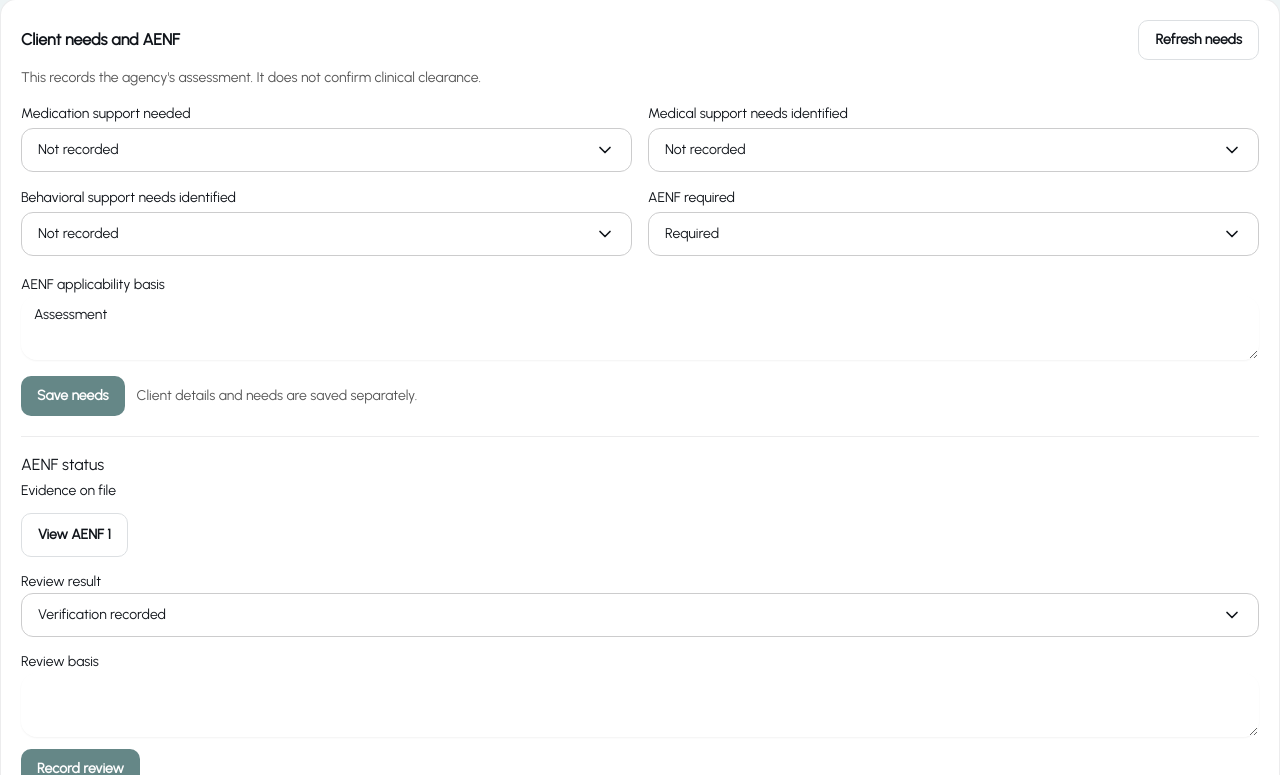
client needs › does not clear an evidence conflict when the real document refresh fails
Later steps or results of the test are not shown.
Type "Retain this review draft" into the text box labelled "Review basis" at (640, 705), box 21,673 -> 1259,737
(page scrolled)
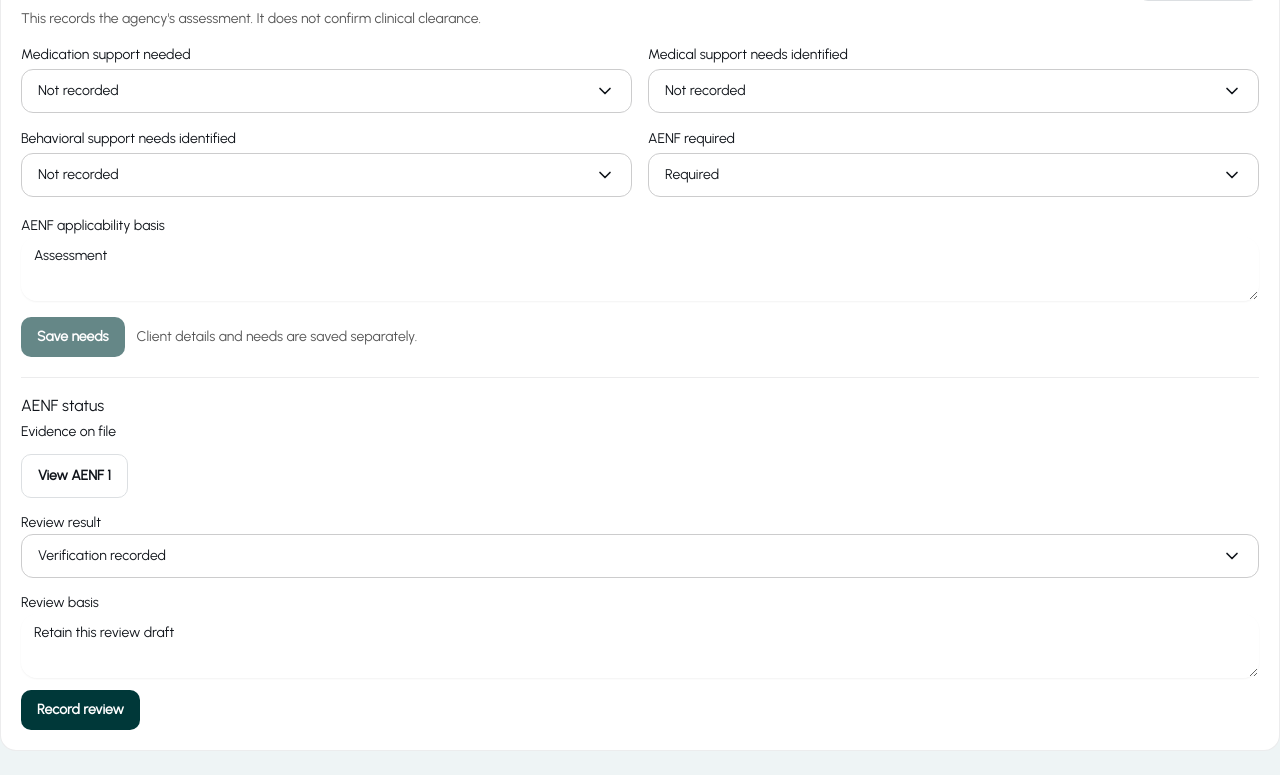
Click the button "Record review" at (80, 710), box 21,690 -> 140,730
(page scrolled)
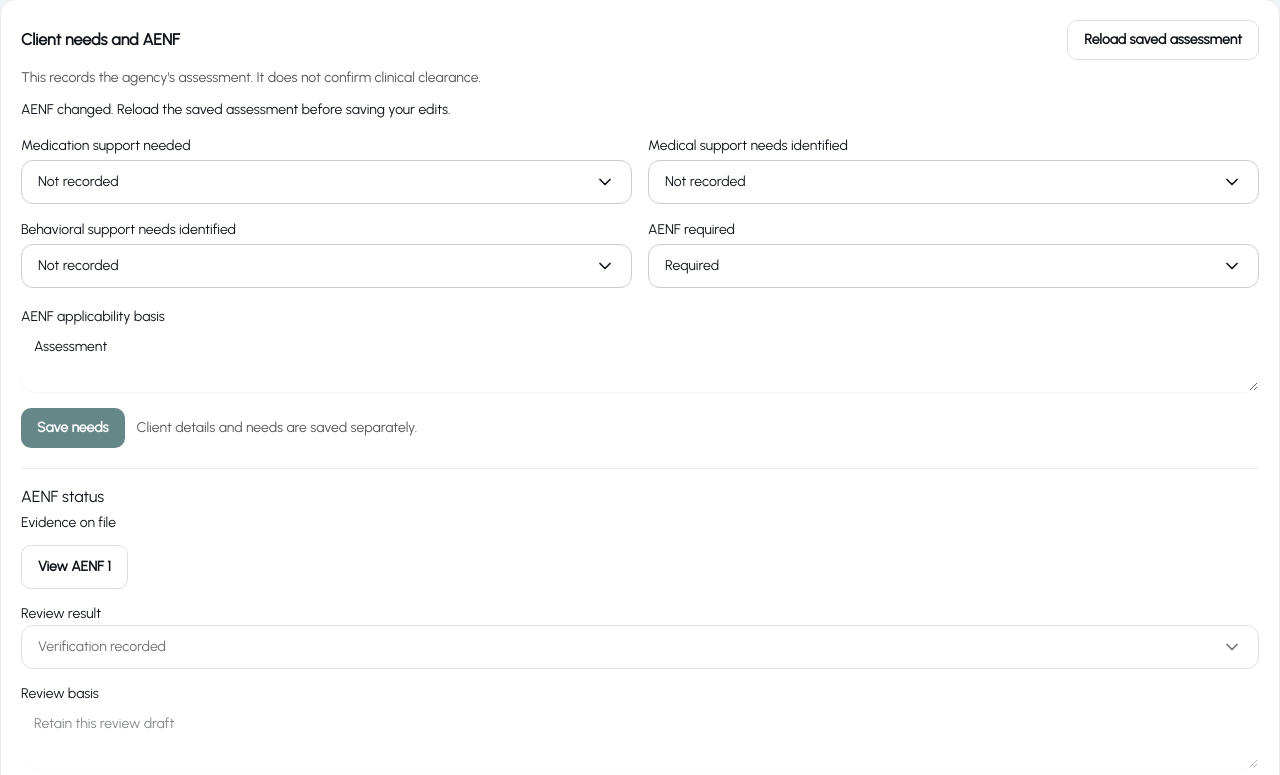
Expected: the button "Reload saved assessment" is shown
Click the button "Reload saved assessment" at (1163, 40), box 1067,20 -> 1259,60
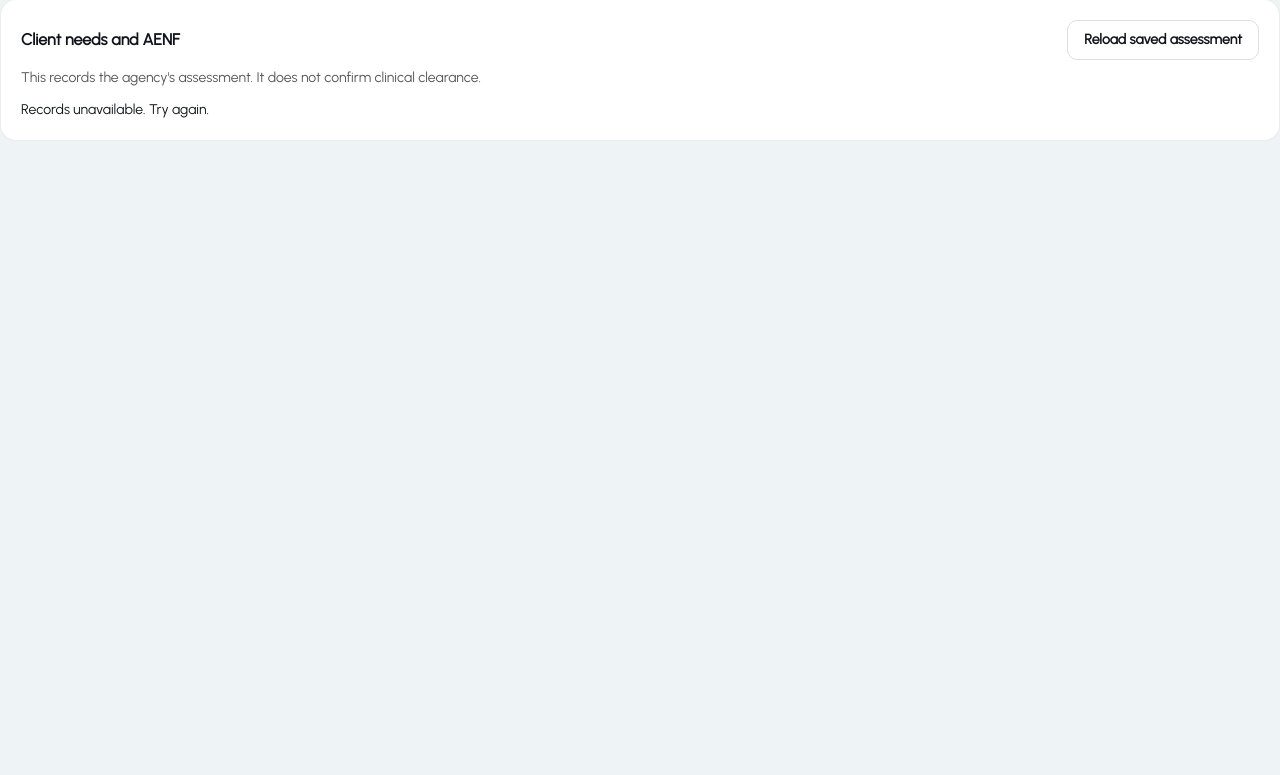
Expected: the text "Records unavailable. Try again." is shown, 21,101 -> 209,118
Click the button "Reload saved assessment" at (1163, 40), box 1067,20 -> 1259,60
(page scrolled)
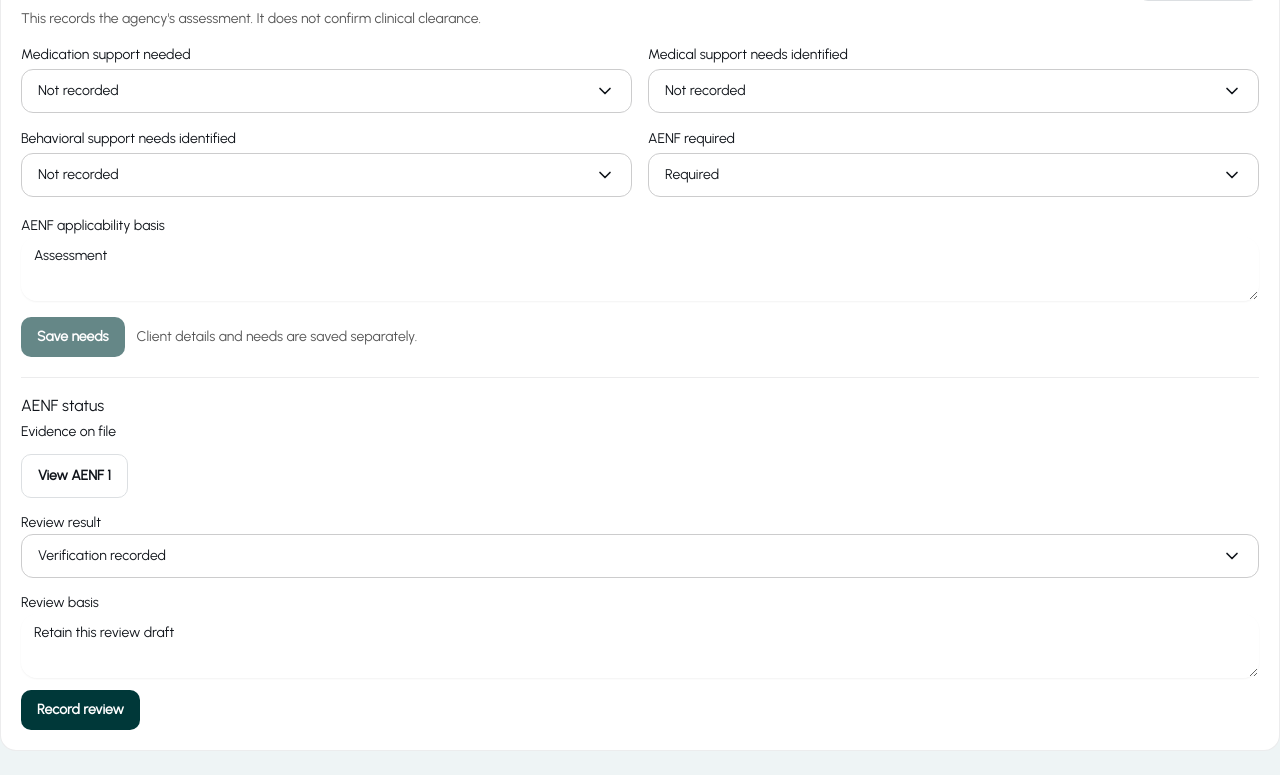
Expected: the button "Record review" is enabled, 21,690 -> 140,730
Expected: the text box labelled "Review basis" holds "Retain this review draft", 21,614 -> 1259,678
